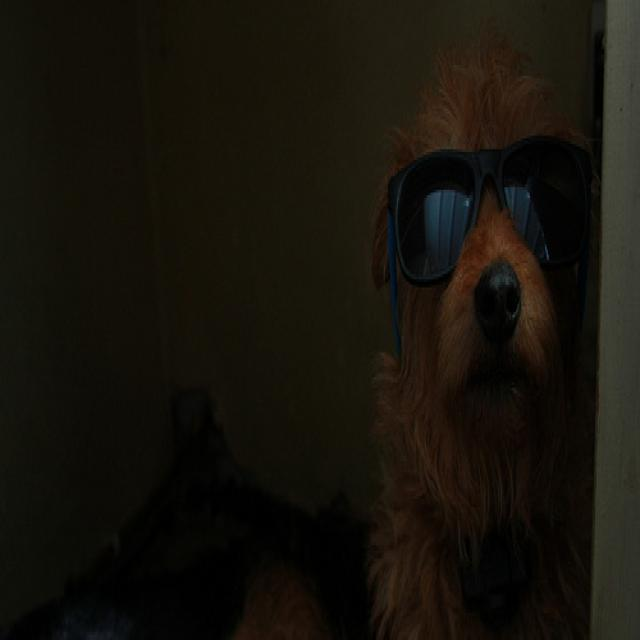Dog: (317, 127, 620, 586)
